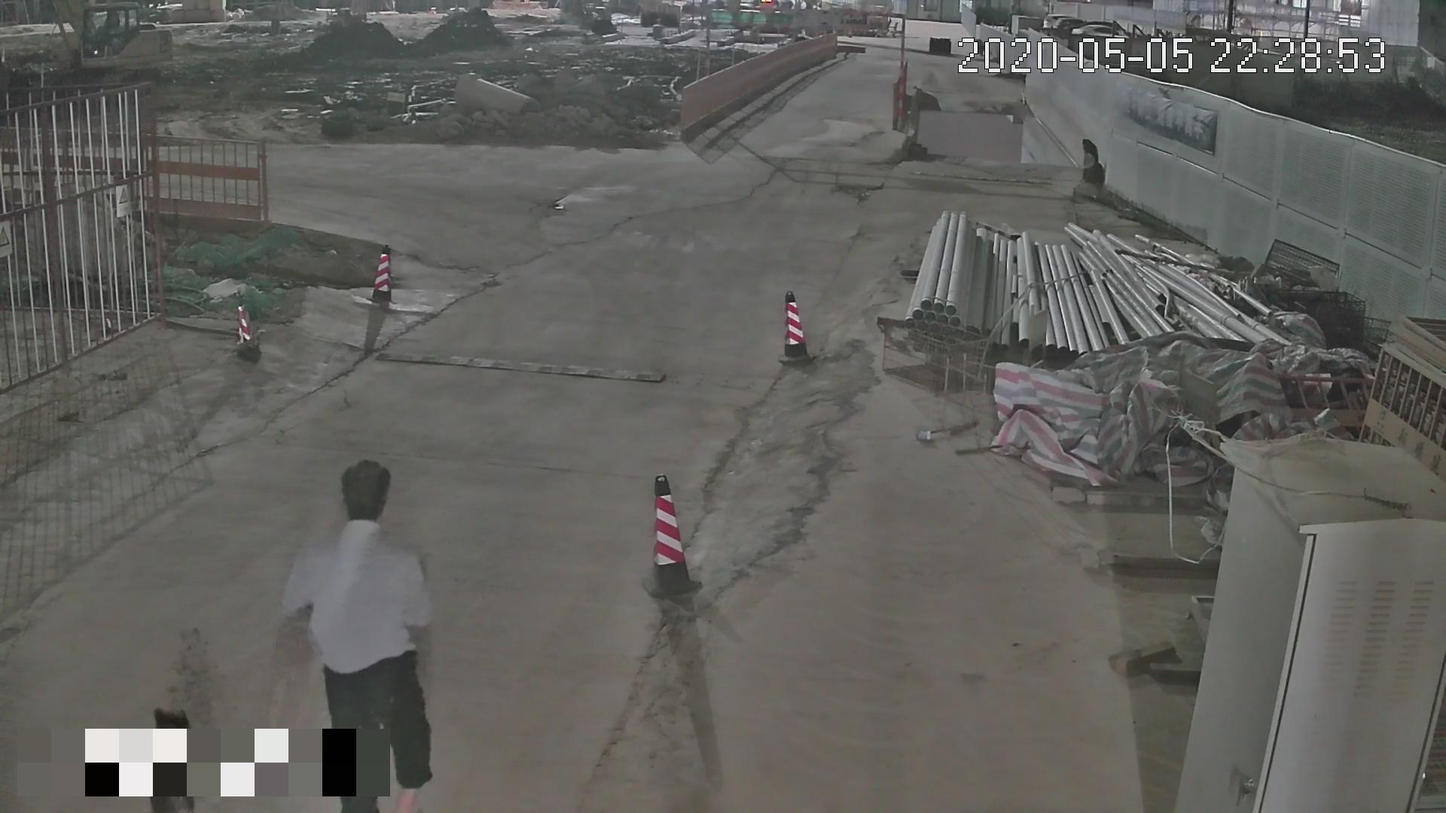head: (338, 459, 389, 522)
person: (274, 454, 441, 812)
